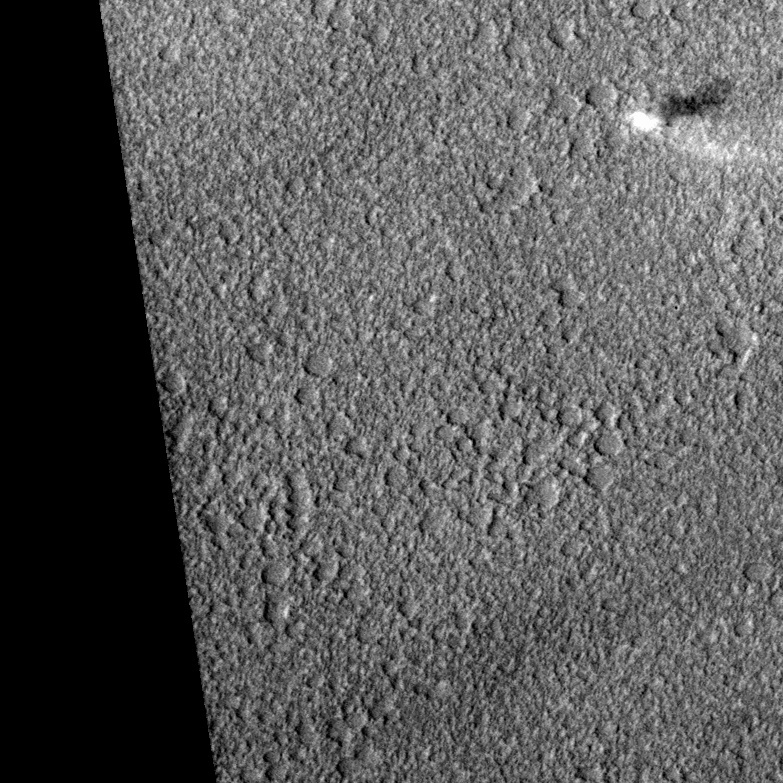dust_devil: (624, 77, 734, 137)
